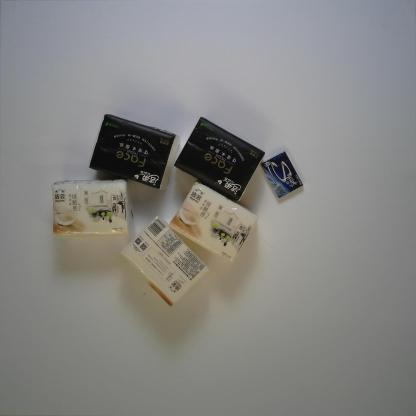Gum: (260, 150, 304, 200)
Tissue: (117, 215, 210, 308), (173, 115, 266, 202), (168, 179, 261, 263), (88, 112, 181, 192), (50, 178, 130, 236)
